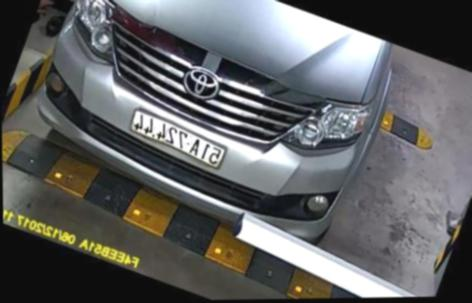License_Plate: (128, 106, 227, 179)
